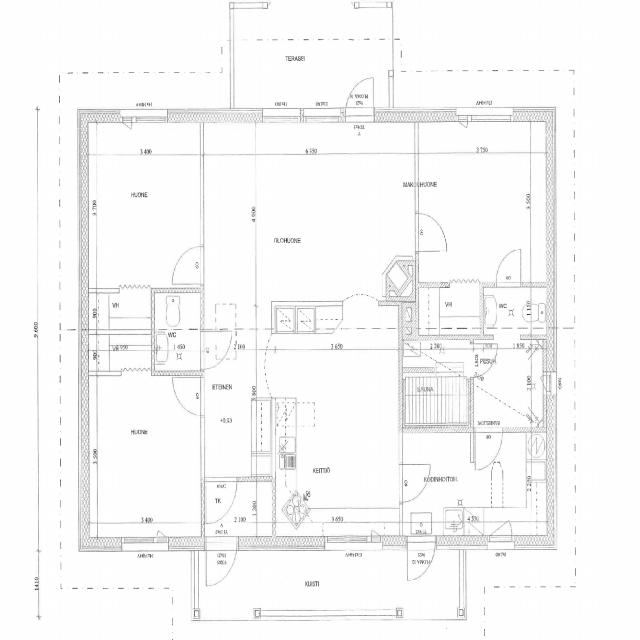door: (206, 536, 236, 590), (345, 71, 373, 122), (407, 536, 434, 586), (206, 477, 236, 522), (172, 376, 205, 416), (399, 464, 430, 502), (415, 214, 446, 252), (201, 331, 232, 369), (475, 428, 502, 469), (470, 344, 498, 376), (496, 250, 520, 287)
